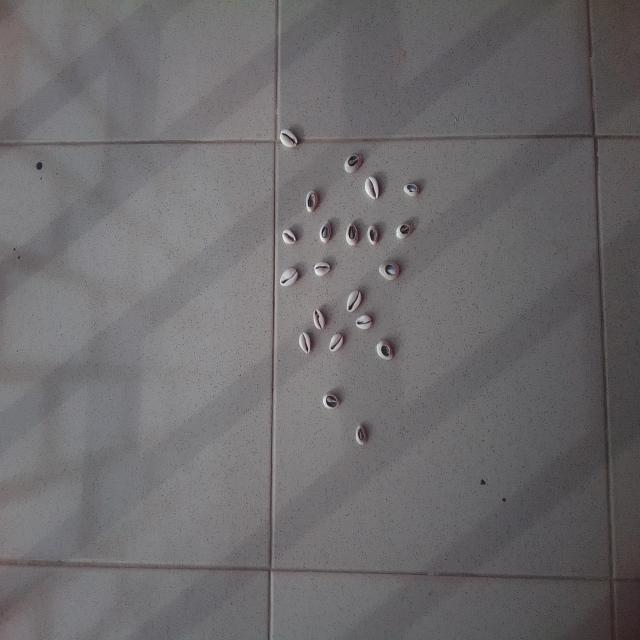facedown: (343, 153, 366, 174), (378, 261, 401, 281), (376, 339, 394, 361), (346, 220, 360, 247), (321, 392, 341, 410), (395, 222, 414, 240), (319, 218, 332, 244), (354, 424, 368, 446), (305, 190, 318, 213), (367, 224, 380, 246), (282, 227, 296, 245), (403, 183, 421, 197)
faceup: (364, 175, 381, 201), (279, 129, 299, 150), (279, 266, 299, 287), (346, 289, 362, 313), (298, 332, 313, 354), (329, 332, 344, 353), (312, 309, 326, 331), (355, 314, 374, 330), (314, 261, 332, 277)
